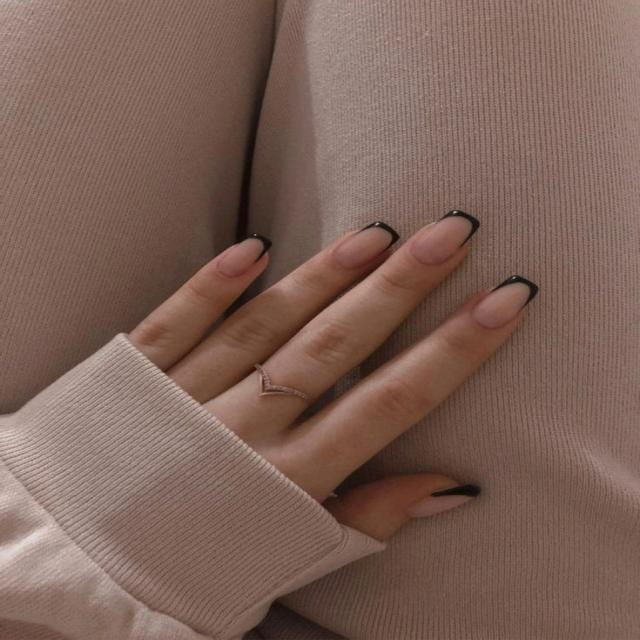Fingernail: (413, 211, 476, 264), (474, 277, 536, 328), (336, 223, 396, 268), (408, 486, 479, 517), (219, 238, 267, 277)
